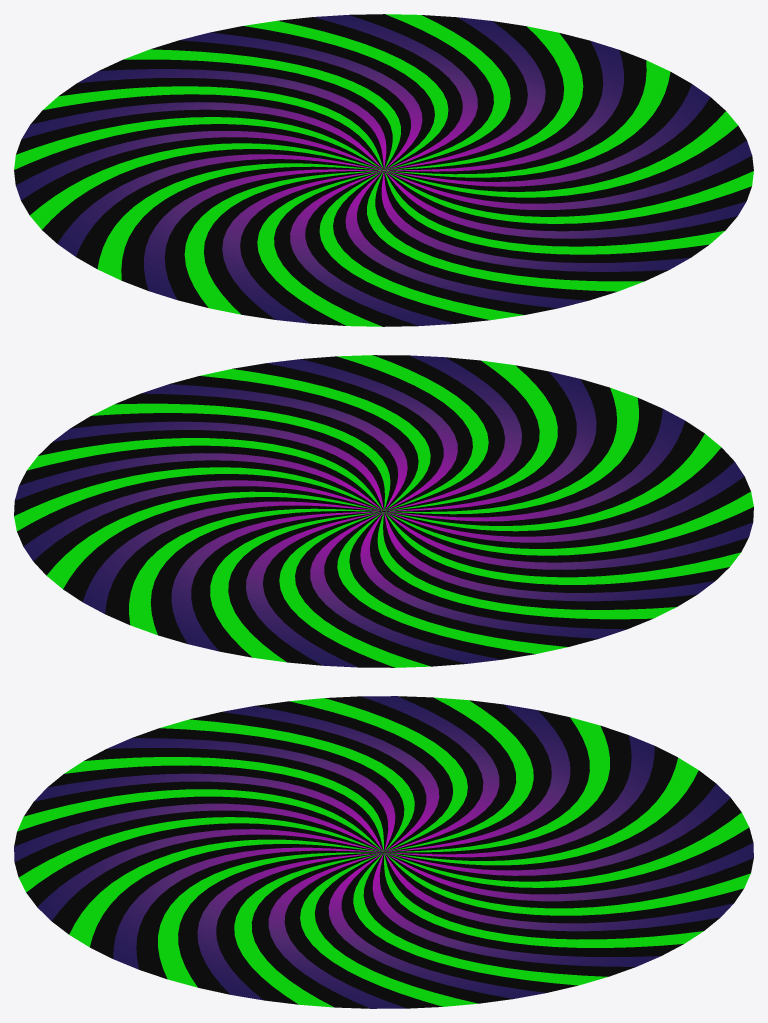
Rendered from swirl.glb.
3 views of the same model, one above another, from view 1: azimuth 30°, elevation 25°; view 2: azimuth 150°, elevation 25°; view 3: azimuth 270°, elevation 25° (orthographic).
Visible parts, largest first — view 1: node-0; view 2: node-0; view 3: node-0.
Part boxes in pixels (x1=…): node-0: x1=14, y1=14, x2=753, y2=326; node-0: x1=14, y1=355, x2=753, y2=667; node-0: x1=14, y1=696, x2=753, y2=1008.
Bounding box in the file's own units: 2.81 × 0 × 2.81.
3 materials, 1 textured.
